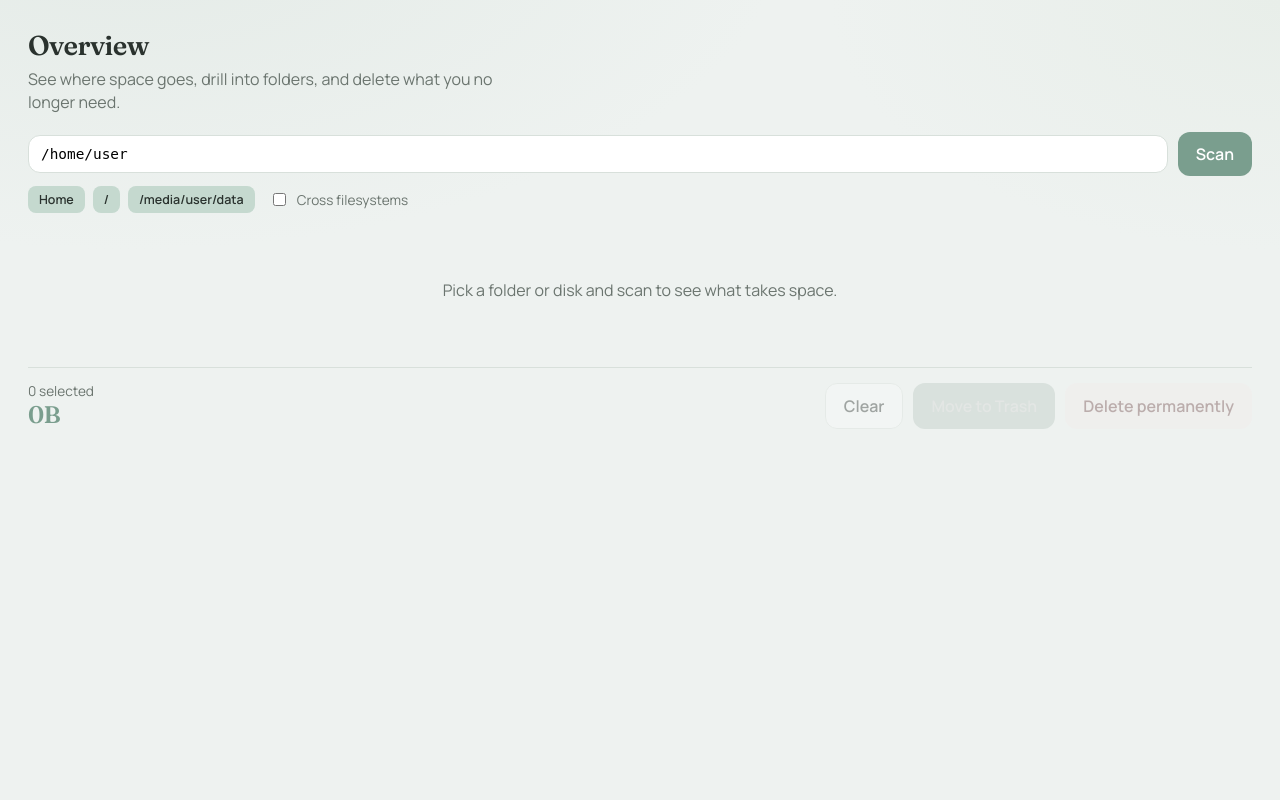
Test: OverviewPanel › cancel keeps everything; Escape closes the dialog
Expected: the field named "Folder to scan" holds "/home/user", [28,135,1168,173]
Click the button "Scan": (1215, 154) [1178,132,1252,176]
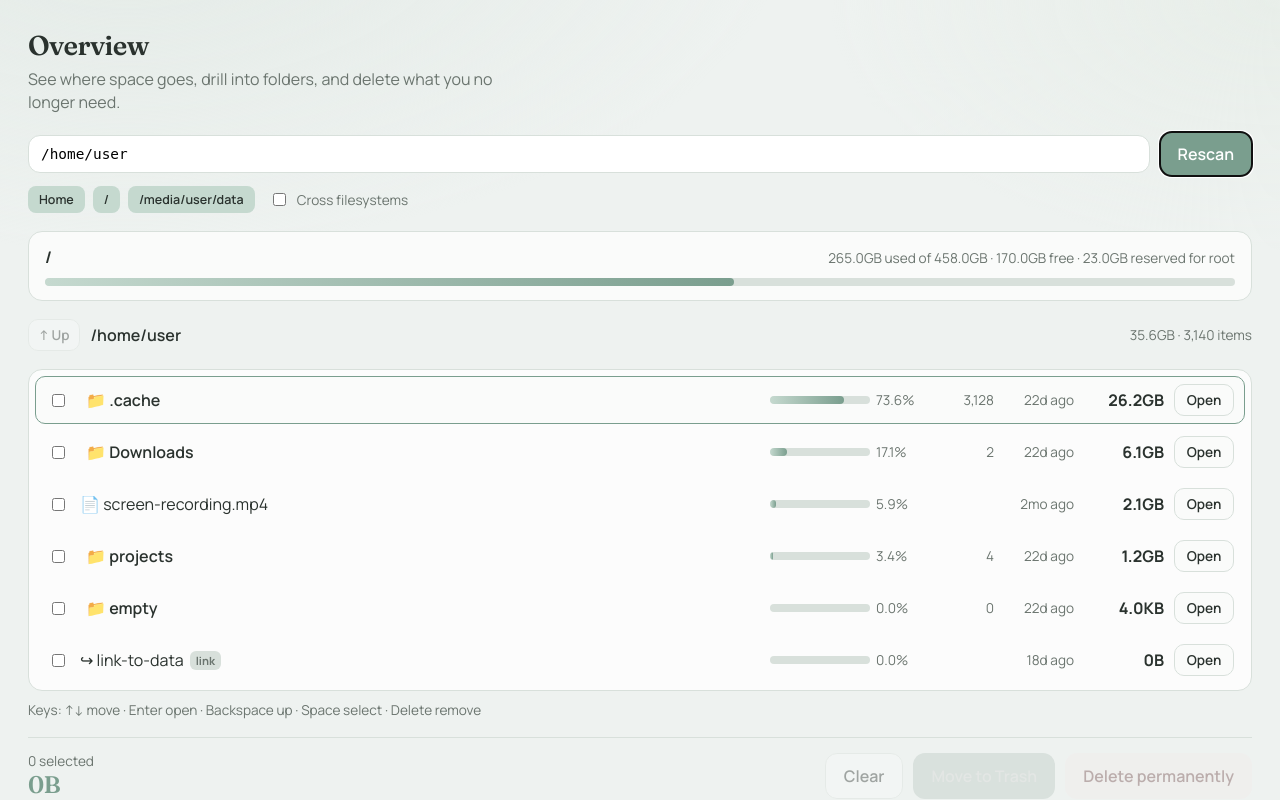
Expected: the table named "Folder contents" is shown, [28,369,1252,691]
Click the checkbox named "Select Downloads": (58, 452) [50,446,67,459]
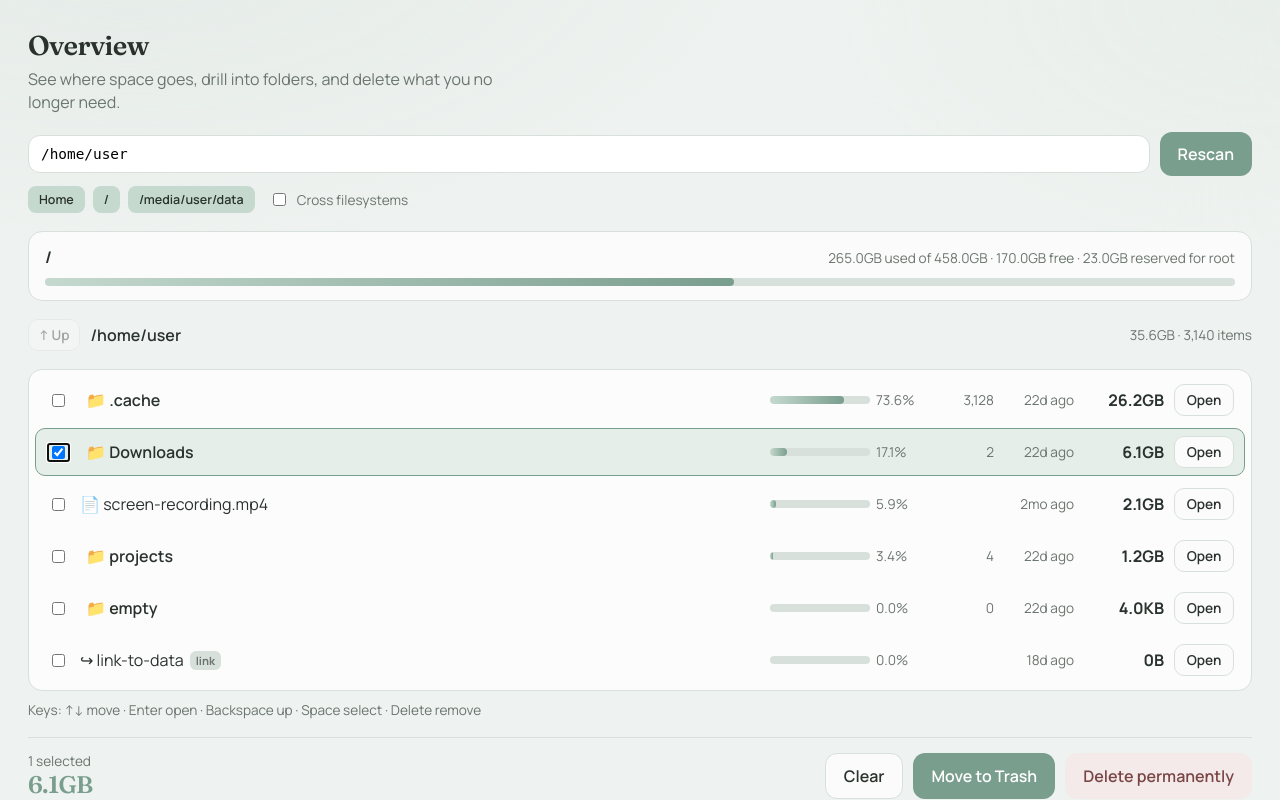
Click the button "Move to Trash": (984, 776) [914,753,1055,799]
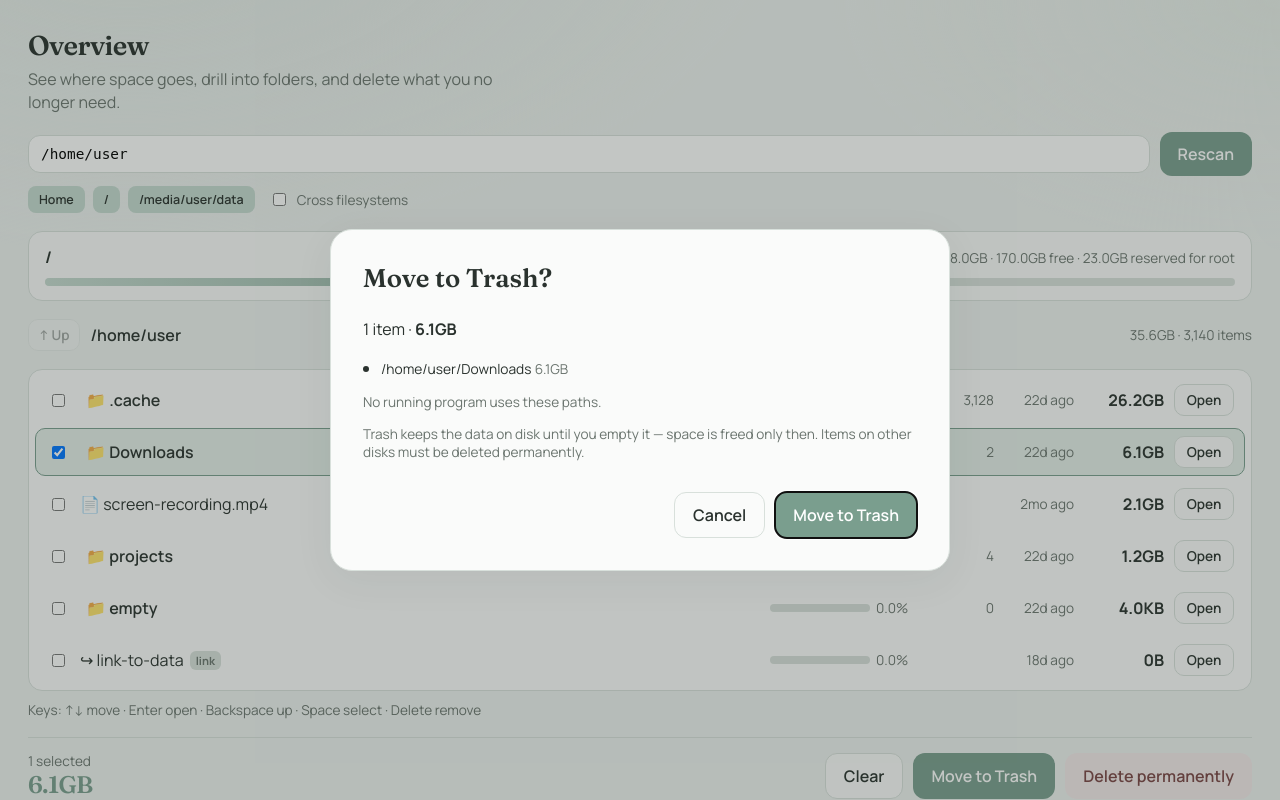
Expected: the dialog "Move to Trash?" shows "space is freed only then", [363,425,912,461]
Expected: the dialog "Move to Trash?" shows "No running program uses these paths.", [363,393,602,411]
Click the button "Cancel": (720, 515) [674,492,765,538]
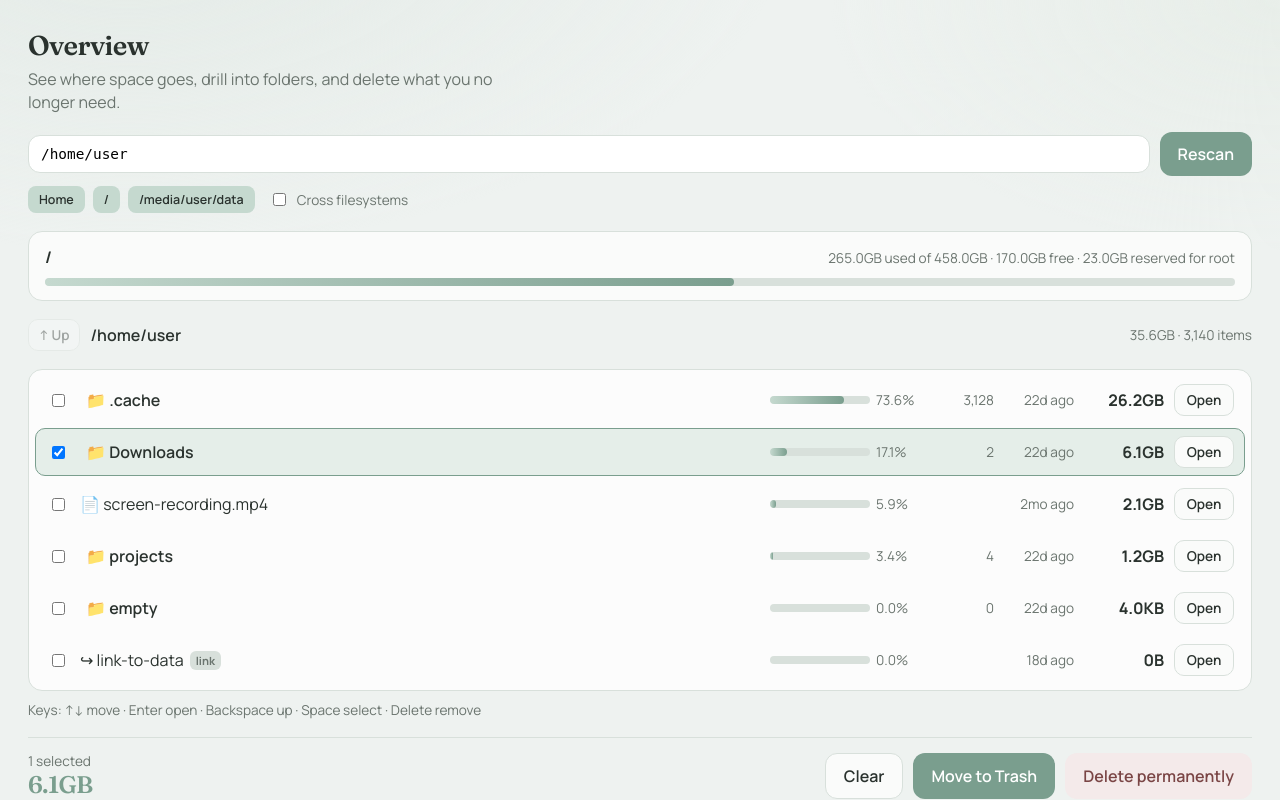
Expected: the dialog is gone
Click the button "Move to Trash": (984, 776) [914,753,1055,799]
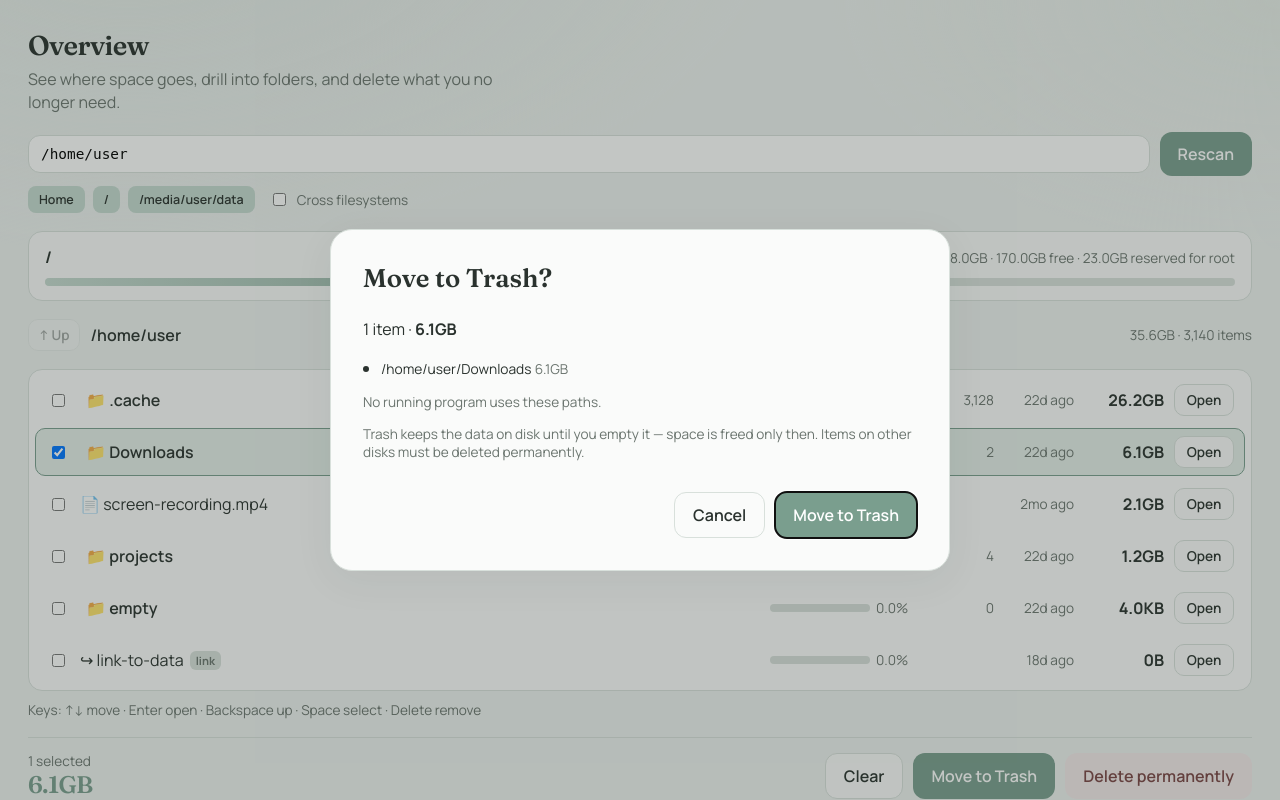
Press Escape
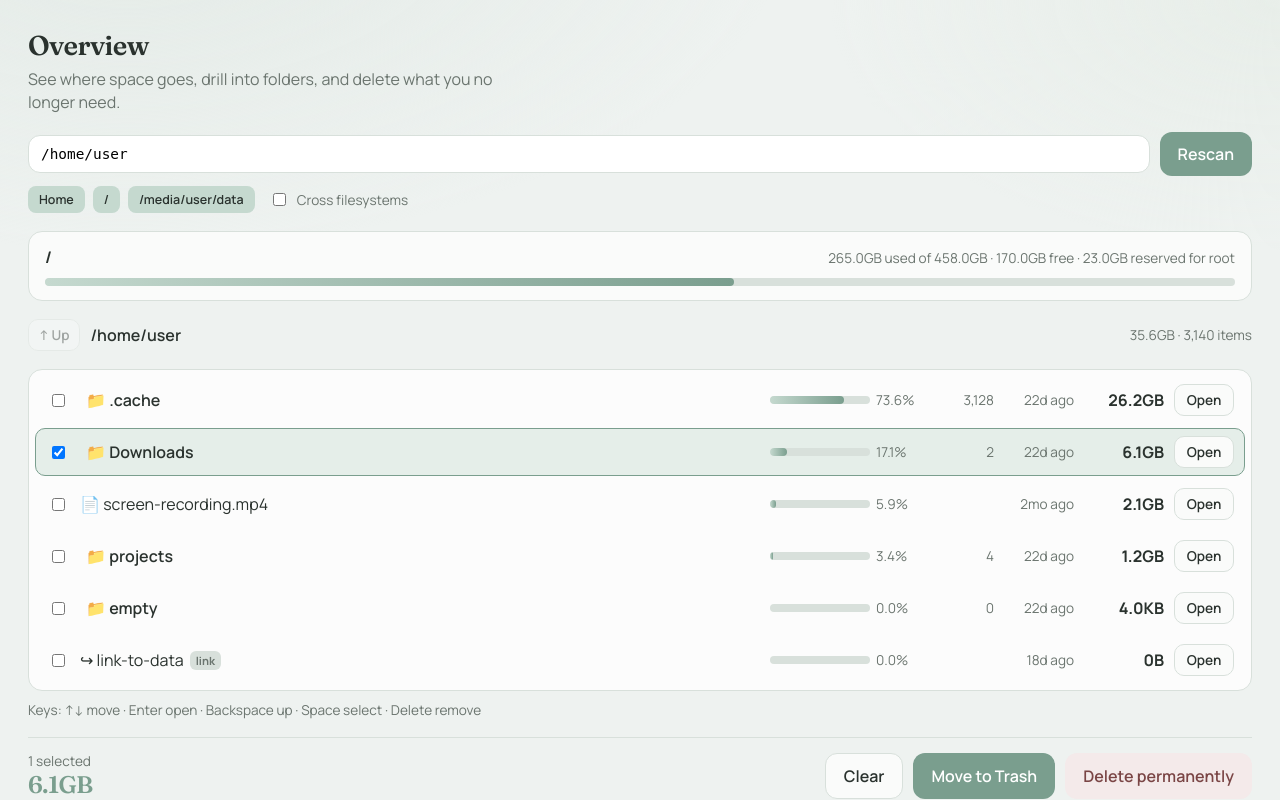
Expected: the text "1 selected" is shown, [28,752,92,770]
Expected: the dialog is gone
